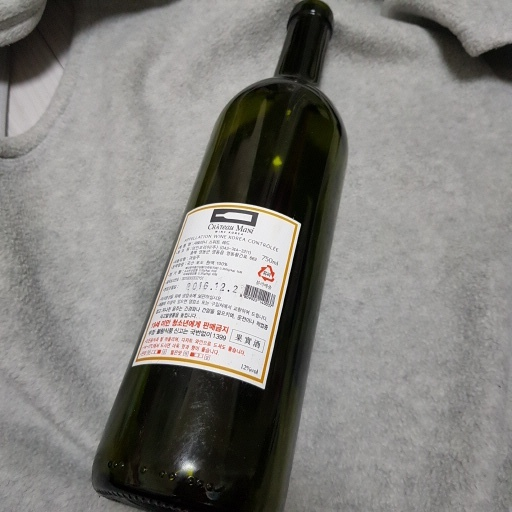Glass_2: (91, 4, 355, 512)
